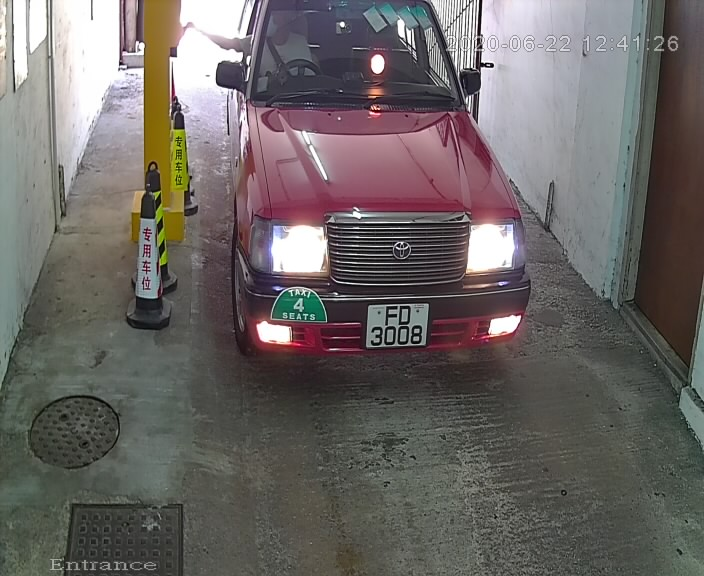taxi: (192, 1, 562, 396)
taxi_mark: (267, 276, 342, 333)
